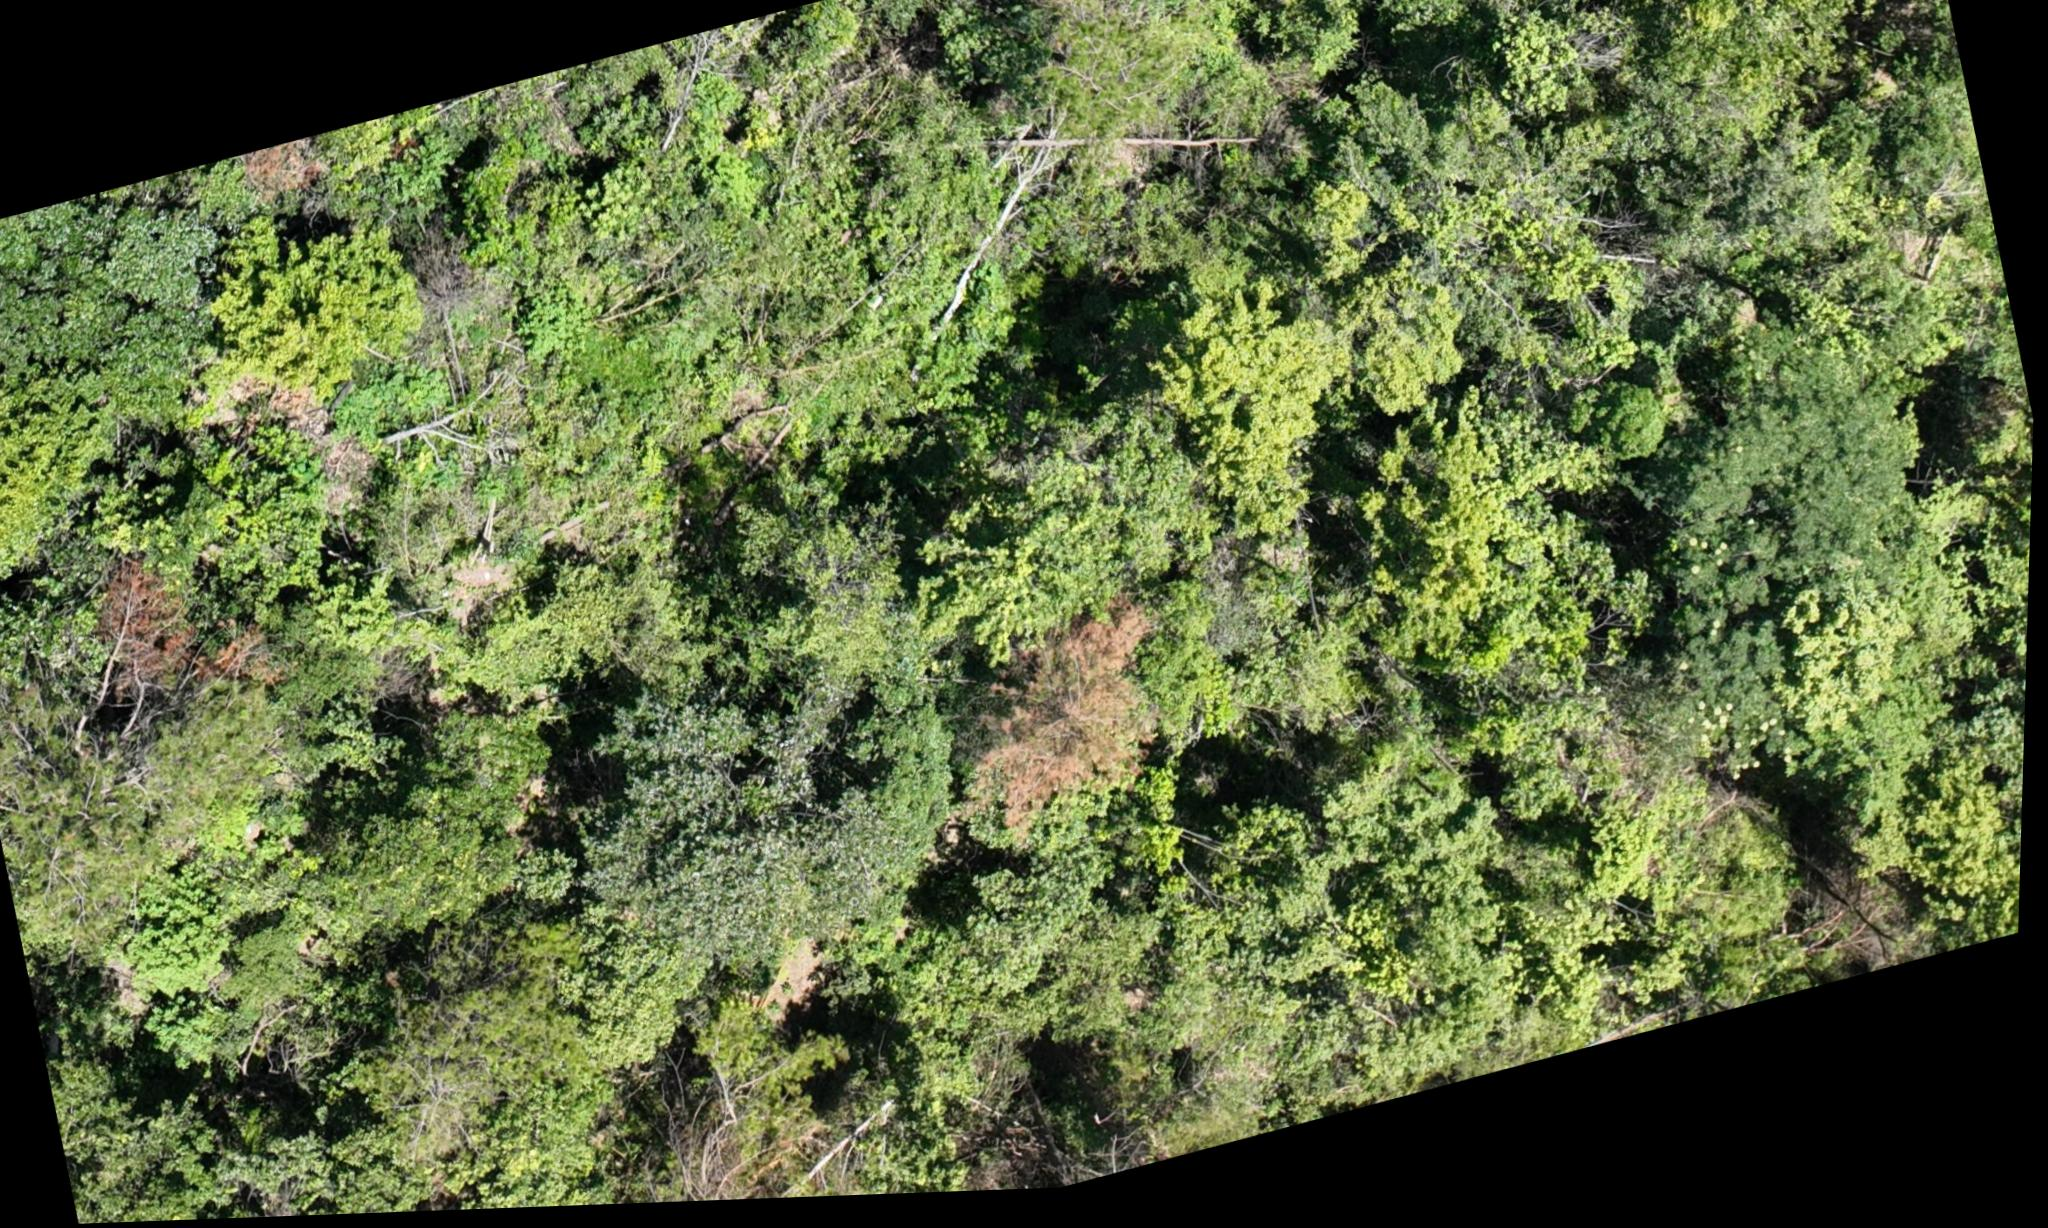heavy: (940, 594, 1194, 845), (73, 523, 279, 732)
